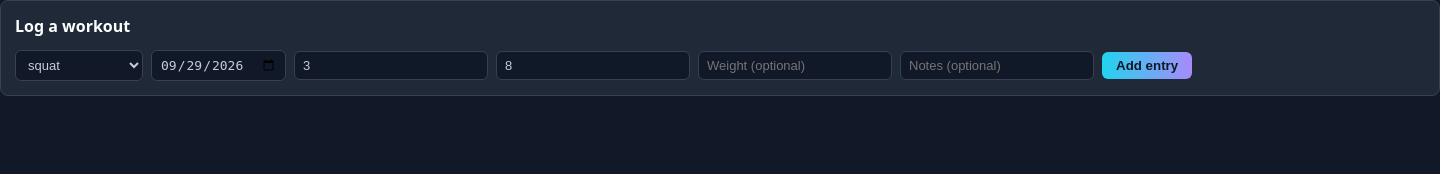
ManualEntryForm › shows an error message when the request fails
The image size is (1440, 174).
Click the button "Add entry": (1147, 66) top-left (1102, 52), bottom-right (1192, 79)
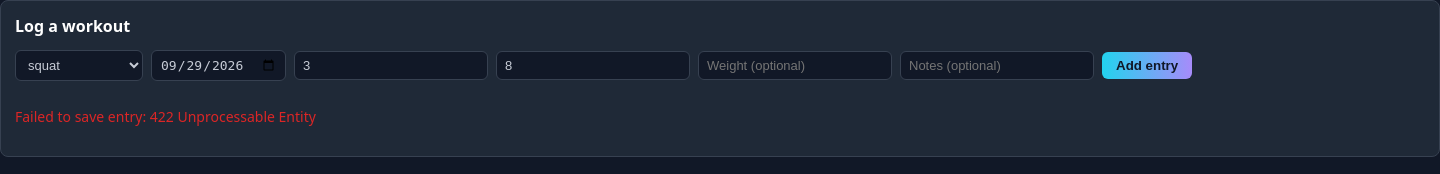
Expected: the text "Failed to save entry: 422 Unprocessable Entity" is shown, top-left (15, 105), bottom-right (316, 128)
